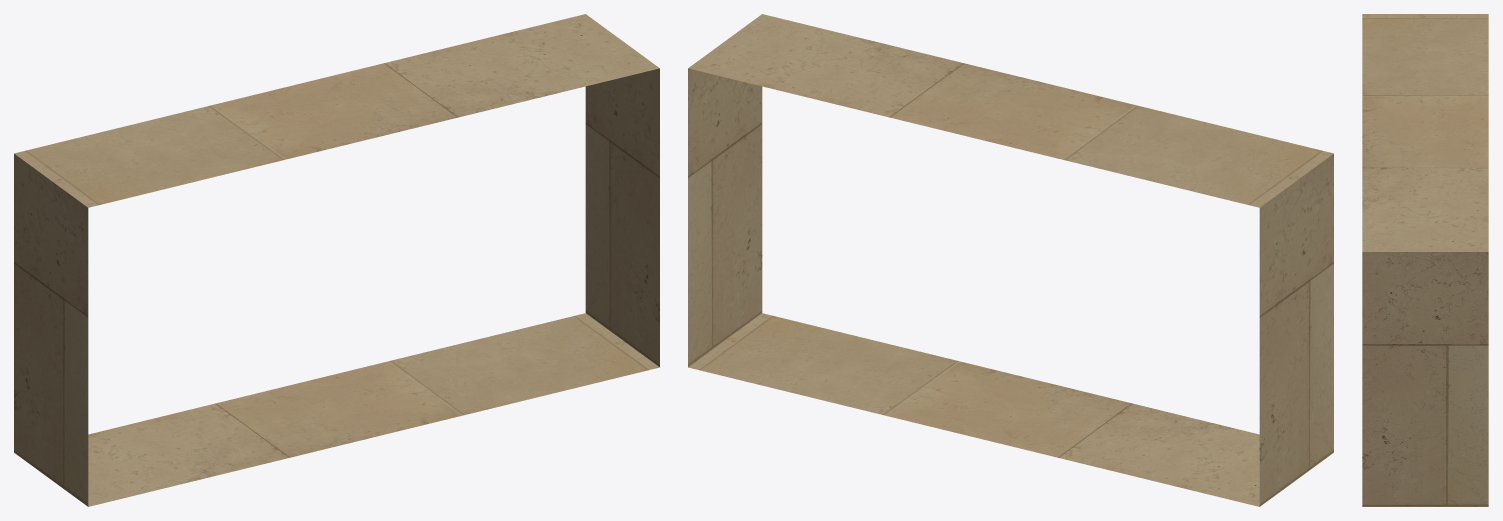
The model's file is WindowVolume_01.fbx.
The picture shows the model from 3 angles, left to right: view 1: azimuth 30°, elevation 25°; view 2: azimuth 150°, elevation 25°; view 3: azimuth 270°, elevation 25°; orthographic projection. The views are drawn at different scales.
Parts seen in each view (by area): view 1: Cube.139; view 2: Cube.139; view 3: Cube.139.
Boxes of the visible parts, <box> form: Cube.139: <box>14,14,659,506</box>; Cube.139: <box>688,14,1333,506</box>; Cube.139: <box>1362,14,1488,506</box>.
Size of the model in its own units: 200 by 100 by 45.
